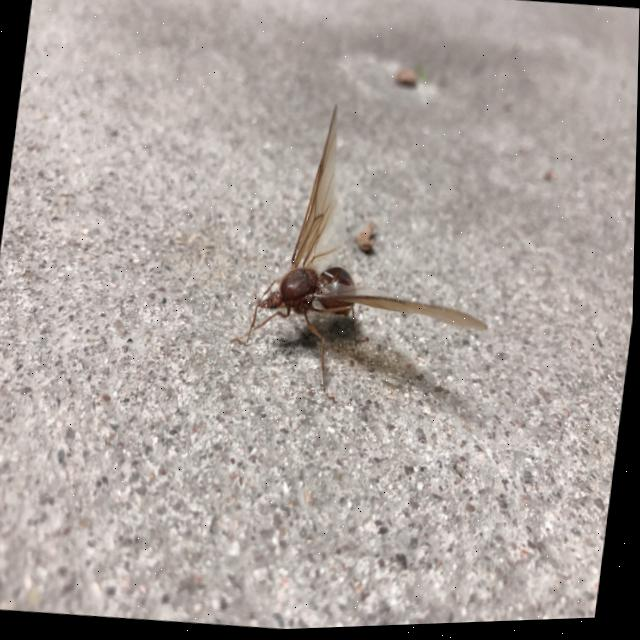Alive-Male-Alate: (226, 93, 516, 421)
